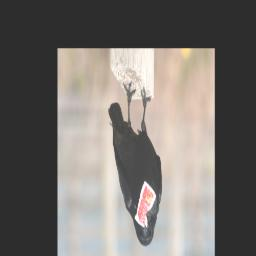Crow: (108, 79, 163, 248)
